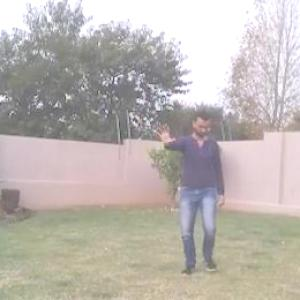follow_hand: (153, 120, 179, 148)
